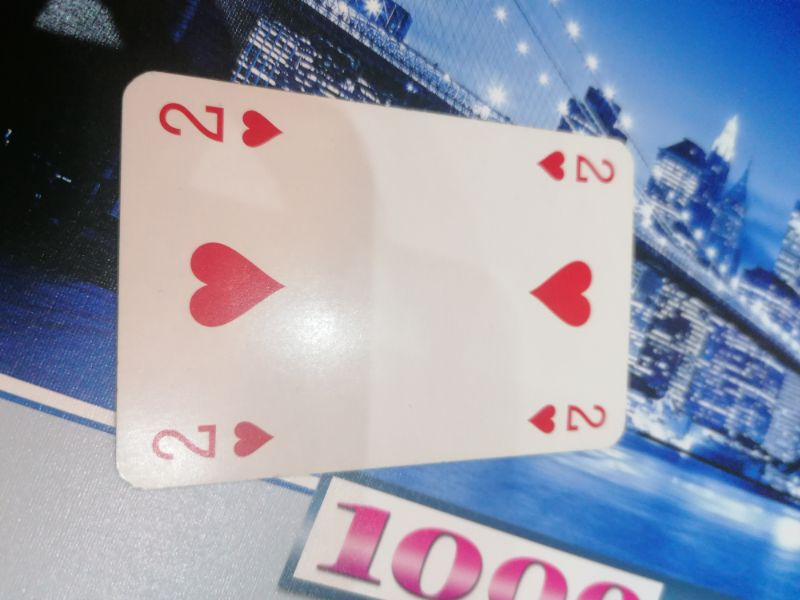2h: (153, 93, 297, 153), (146, 416, 276, 467), (529, 147, 618, 189), (523, 398, 611, 436)
